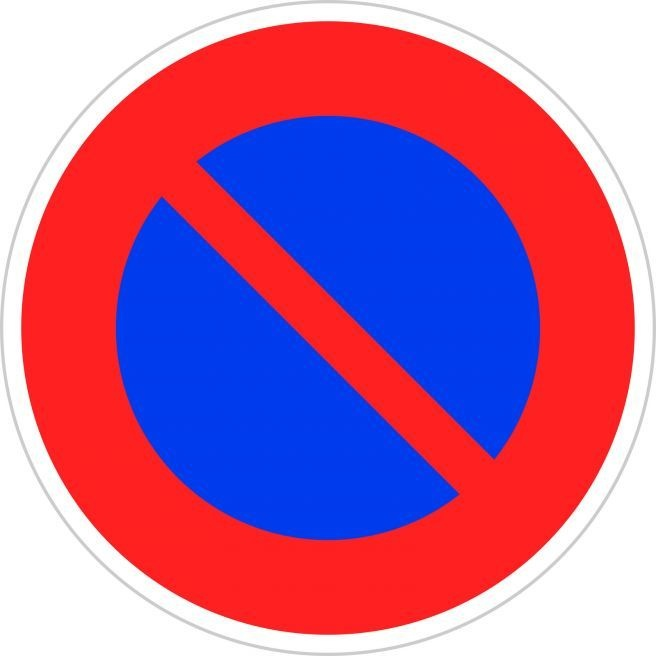Prohibition_sign: (15, 12, 647, 649)
